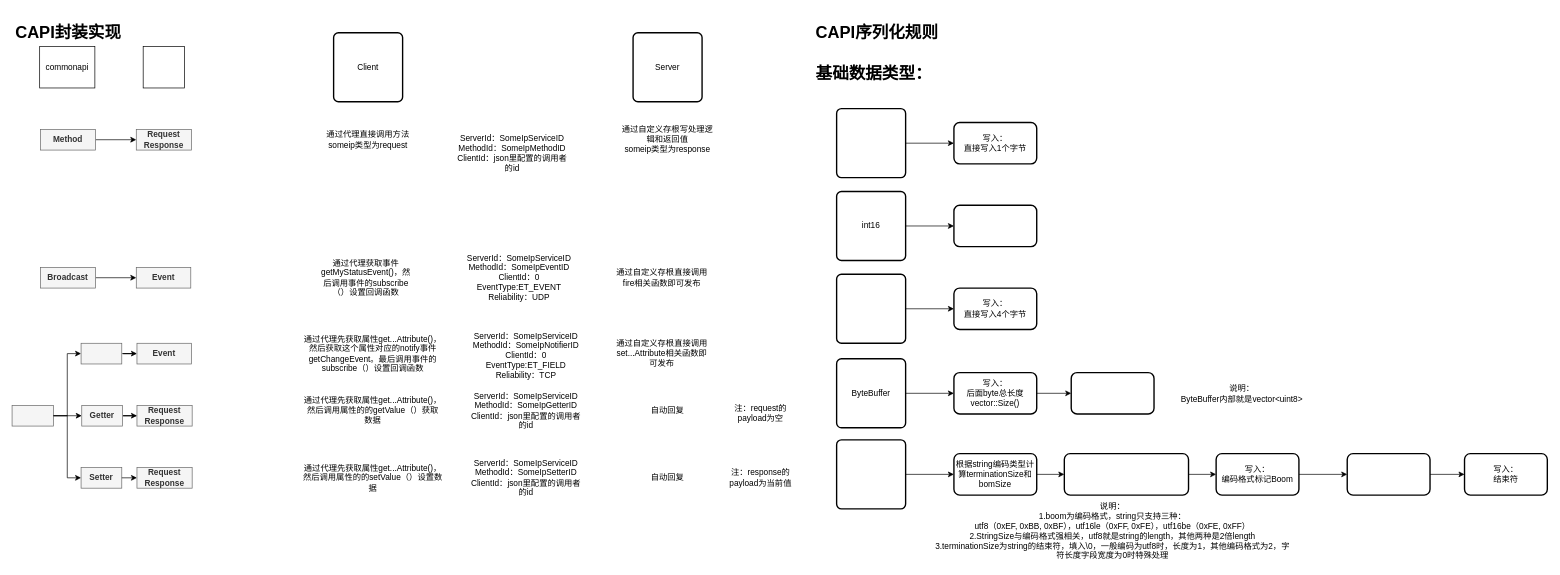
Image size: 1560x575. Some labels were removed from this diagram. The box of each missing label's shape, as (x1, y1, x2, y2) in pixels:
Attribute: (11, 405, 53, 426)
Boolean: (836, 108, 906, 178)
int32: (836, 273, 906, 344)
Notifier: (80, 343, 122, 364)
string: (836, 439, 906, 509)
vsomeip: (142, 46, 185, 88)
写入： byte: (1070, 372, 1154, 414)
写入： 后面总长度： stringSize + terminationSize + bomSize: (1063, 453, 1189, 495)
写入： 字符串: (1346, 453, 1430, 495)
写入： 直接写入2个字节: (953, 204, 1037, 247)
